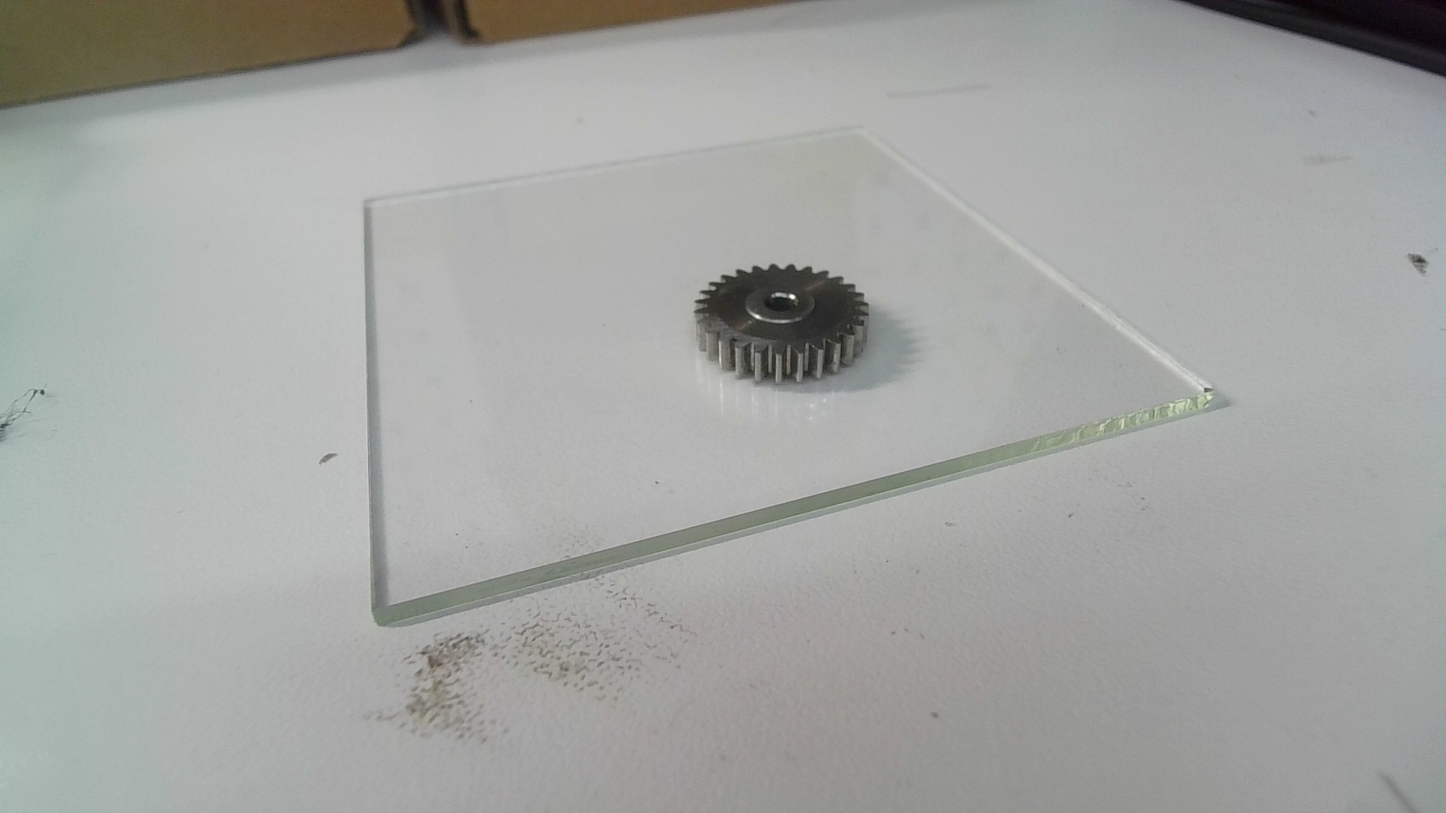gear: (691, 261, 875, 390)
